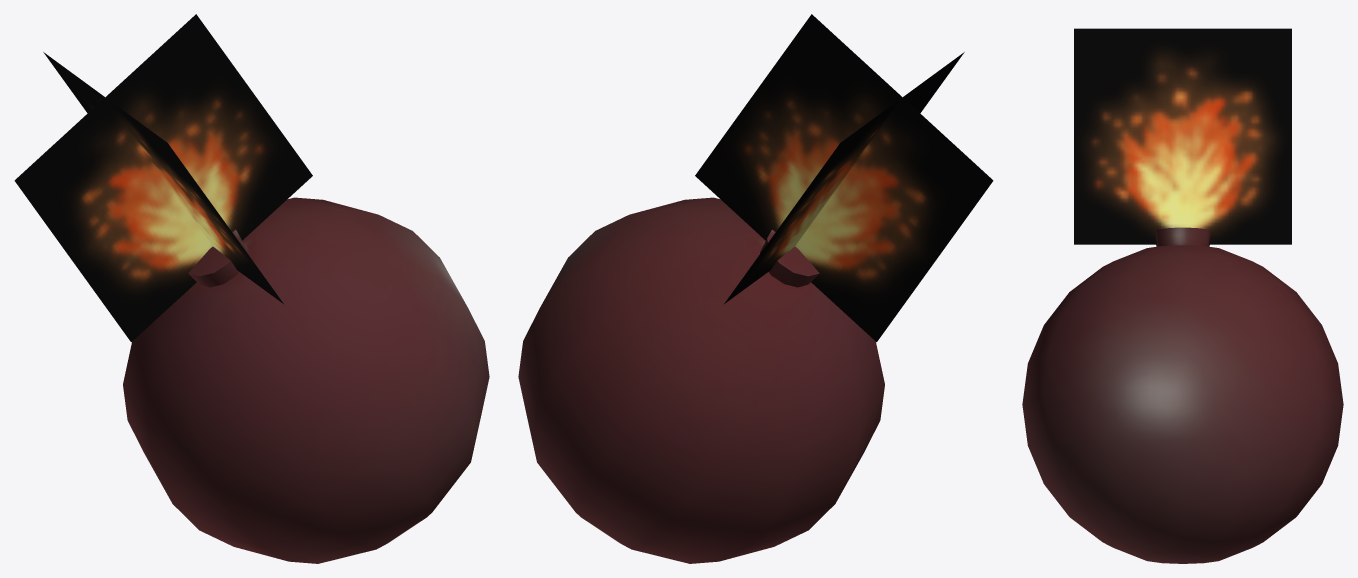
File: Bomb_v_01.fbx
3 renders of one model, left to right at view 1: azimuth 30°, elevation 25°; view 2: azimuth 150°, elevation 25°; view 3: azimuth 270°, elevation 25°, orthographic. The views are drawn at different scales.
Parts seen in each view (by area): view 1: Bomb01, fire1, fire2; view 2: Bomb01, fire1, fire2; view 3: Bomb01, fire2.
Part boxes in pixels (<box>): Bomb01: <box>123,197,489,563</box>; fire1: <box>14,14,312,342</box>; fire2: <box>43,52,283,303</box>; Bomb01: <box>518,197,884,563</box>; fire1: <box>695,14,993,342</box>; fire2: <box>724,52,964,303</box>; Bomb01: <box>1022,227,1343,563</box>; fire2: <box>1074,28,1291,244</box>.
Size of the model in its own units: 1.02 by 1.21 by 0.7214.
